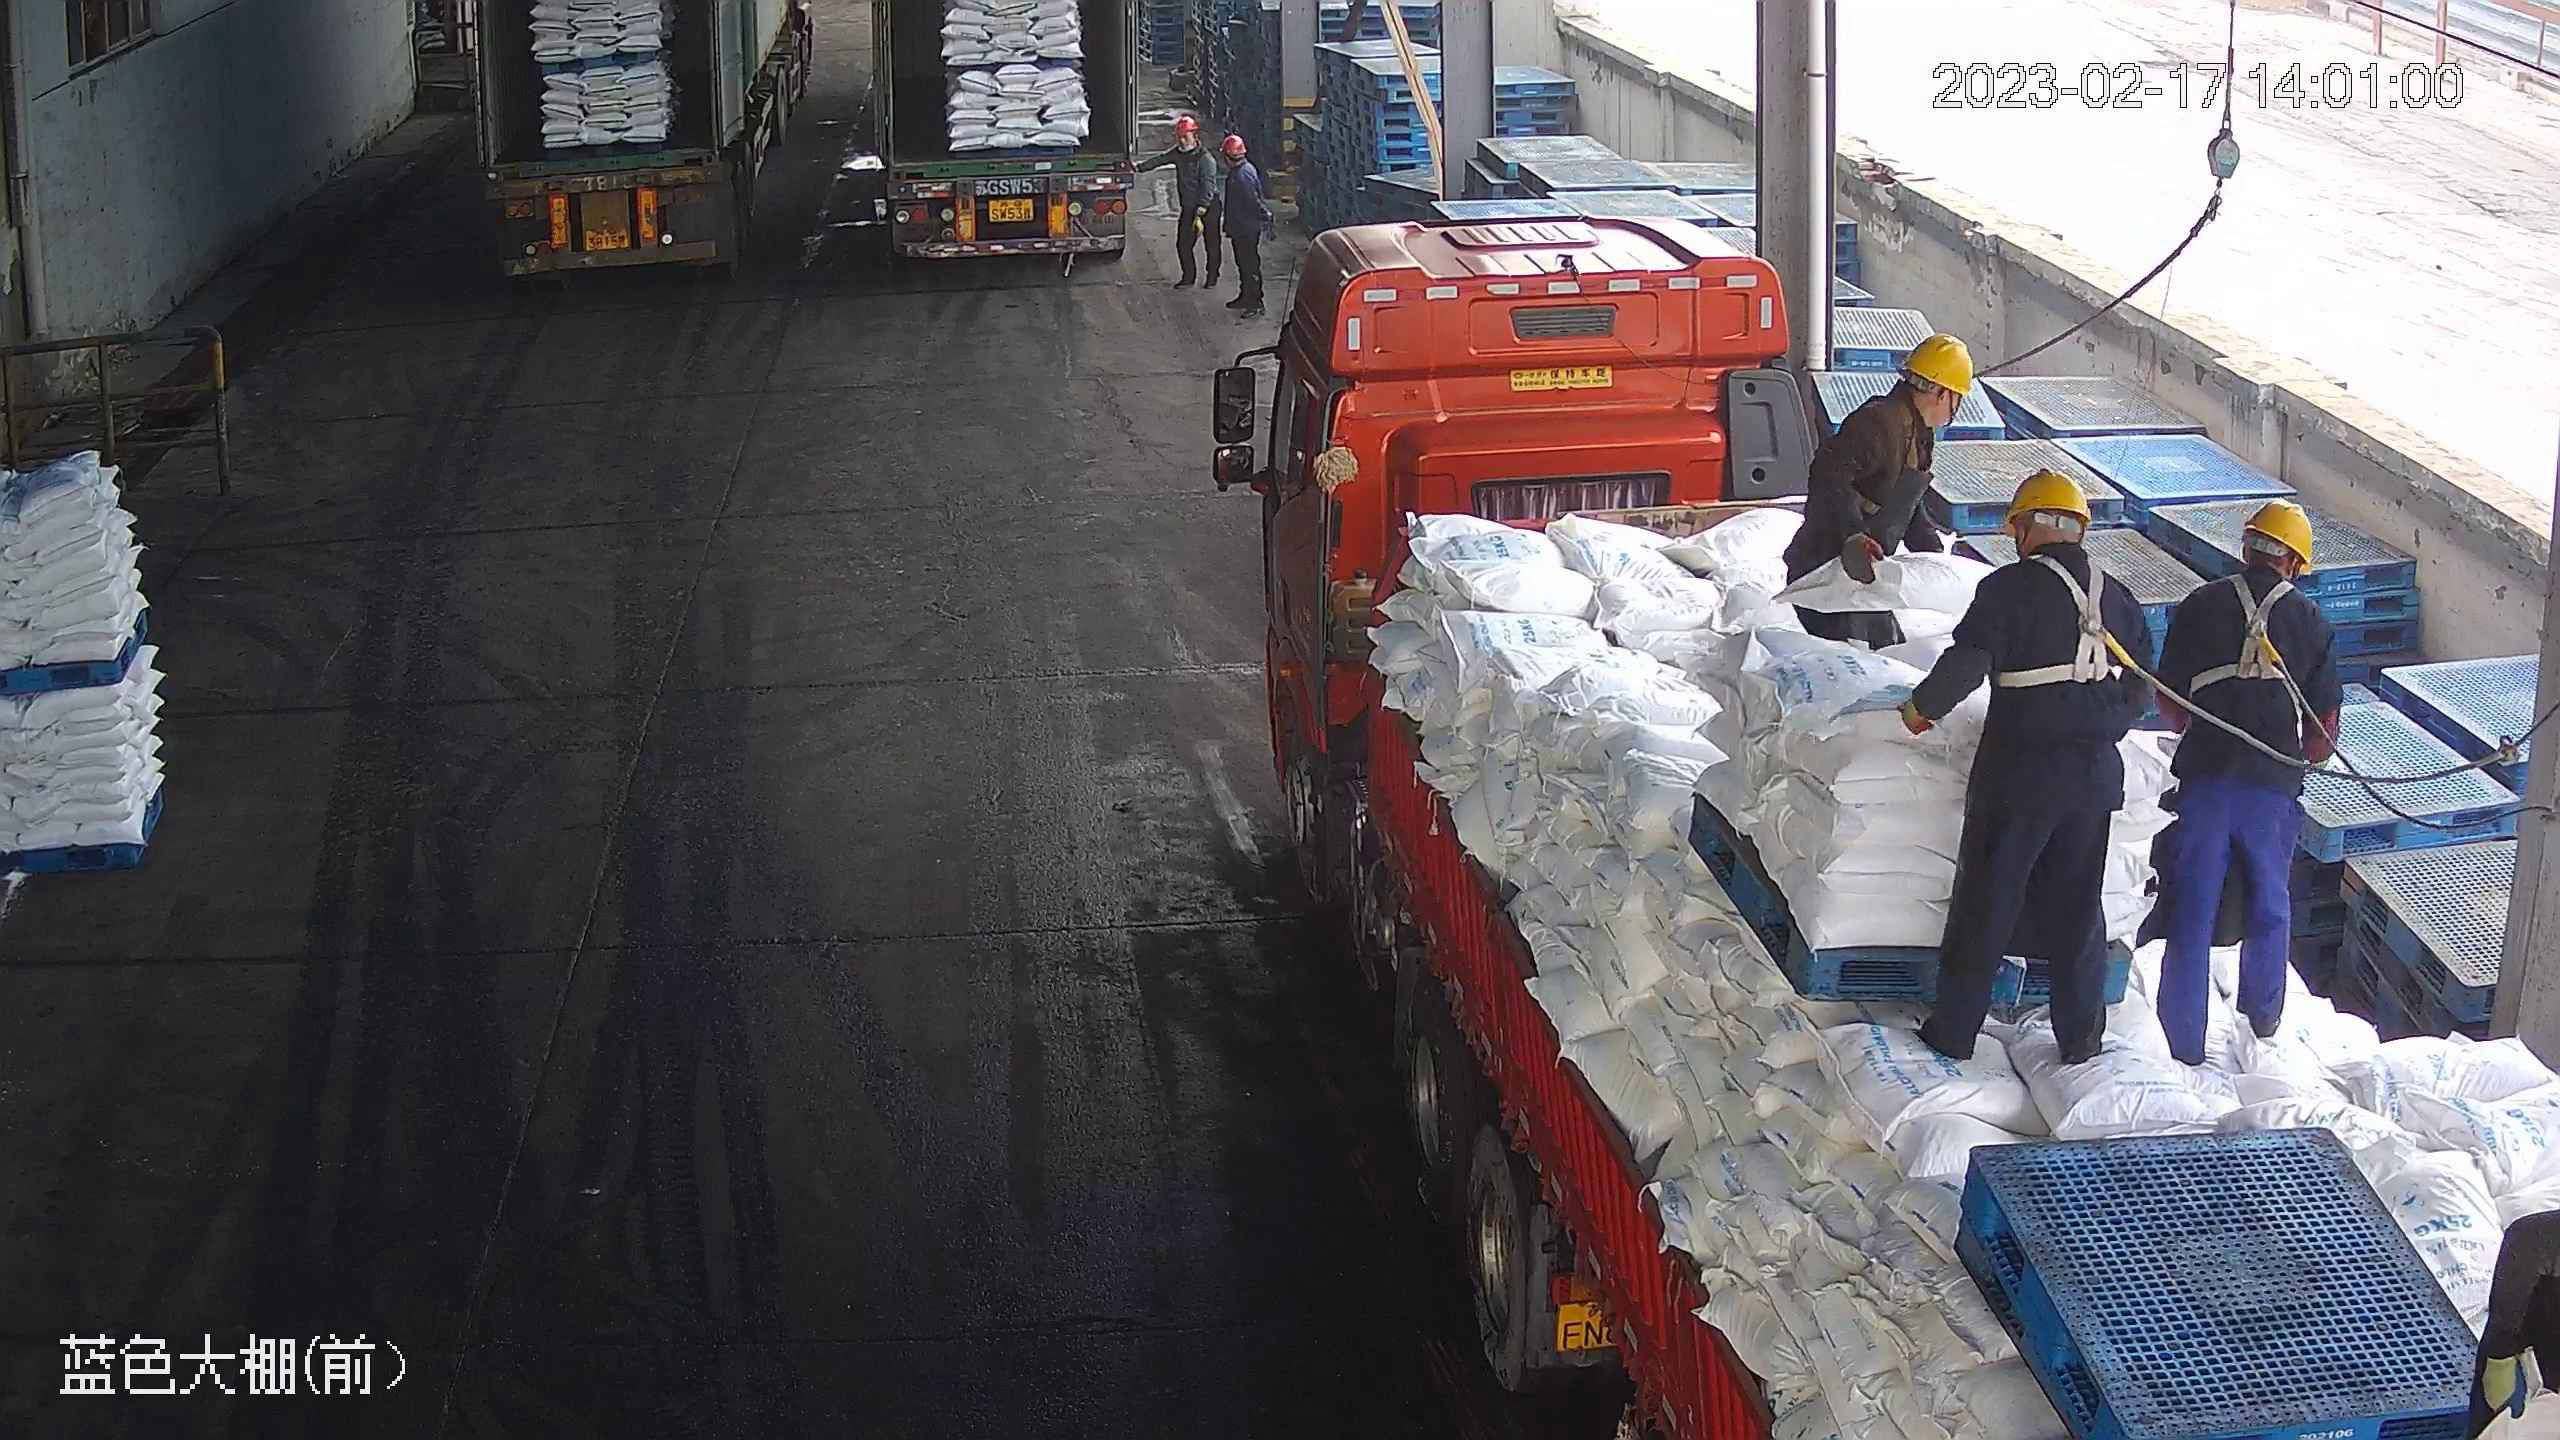belt: (1988, 551, 2144, 690), (2189, 573, 2301, 712), (1862, 367, 1971, 474)
head: (1974, 466, 2142, 609), (2171, 496, 2333, 634), (1840, 331, 1974, 450), (1167, 115, 1214, 167), (1219, 132, 1260, 188)
helmet: (1999, 467, 2092, 538), (2244, 496, 2313, 577), (1902, 331, 1974, 395), (1218, 134, 1248, 157), (1172, 115, 1200, 133)
people: (1898, 467, 2156, 1067), (2153, 496, 2346, 1068), (1776, 332, 1974, 654), (1136, 114, 1221, 292), (1217, 133, 1271, 319)
truck: (1263, 213, 2560, 1440), (470, 1, 822, 294), (875, 1, 1150, 280)
